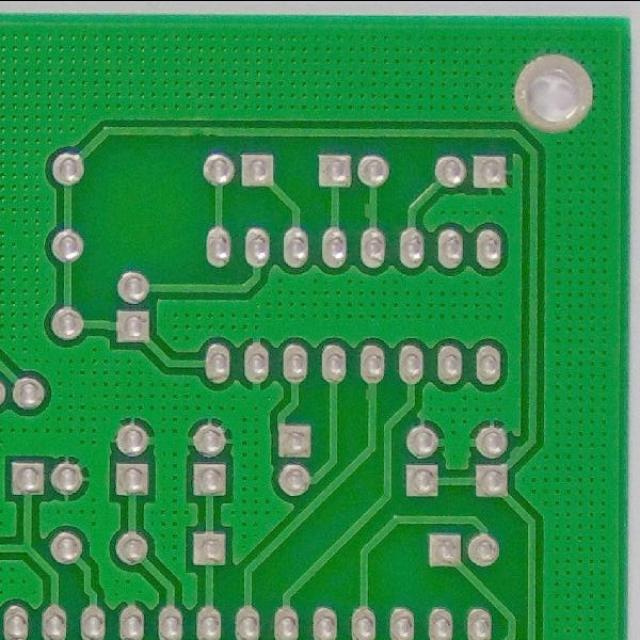Spur: (359, 198, 382, 223), (360, 384, 381, 406), (507, 442, 526, 464)
